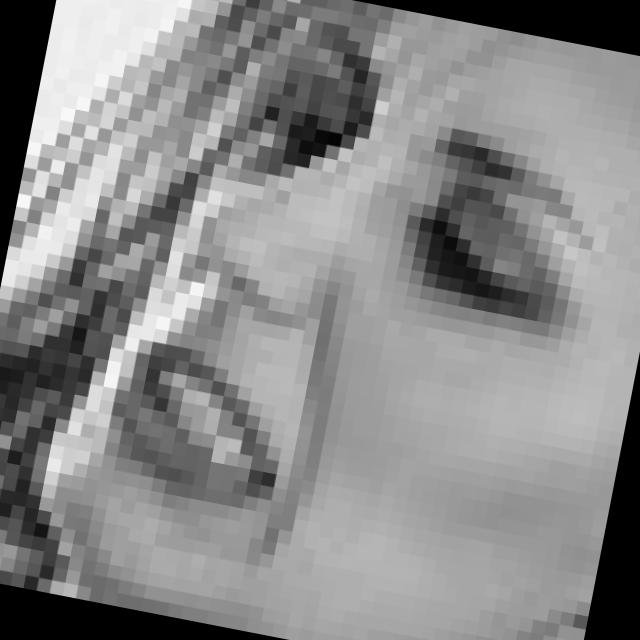disgust: (79, 0, 626, 615)
